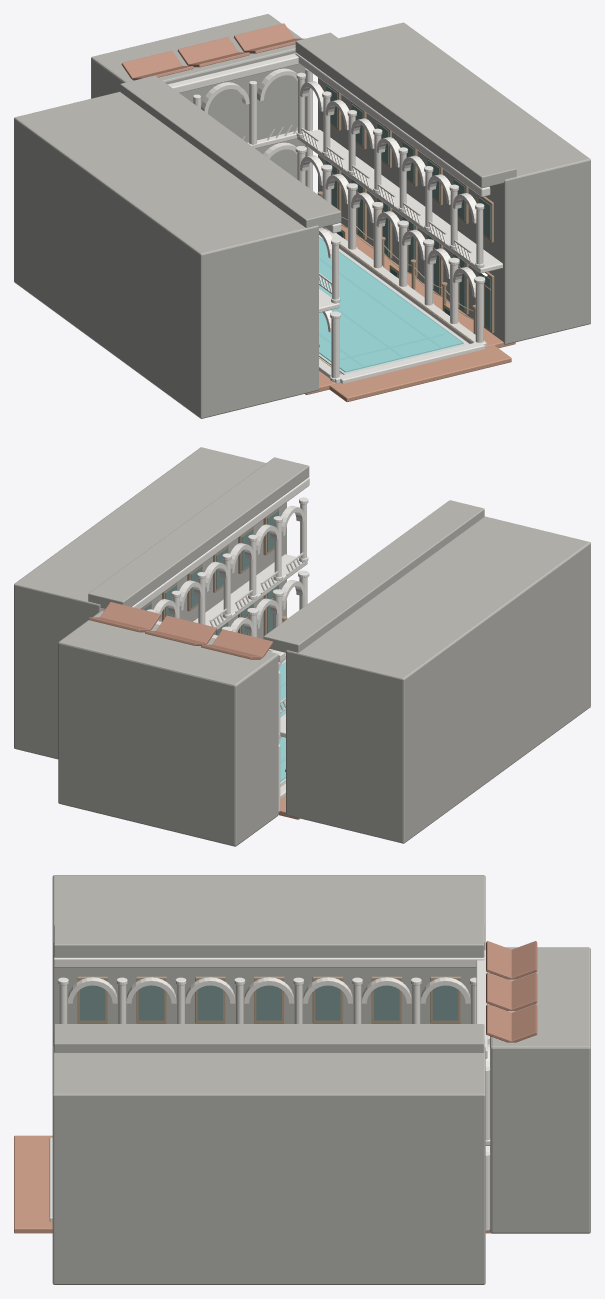
File: navy-club-pool.glb
3 views of the same model, one above another, from view 1: azimuth 30°, elevation 25°; view 2: azimuth 150°, elevation 25°; view 3: azimuth 270°, elevation 25° (orthographic). The views are drawn at different scales.
Visible parts, largest first — view 1: NavyClubPool; view 2: NavyClubPool; view 3: NavyClubPool.
Boxes of the visible parts, box(x1,y1,x2,y2) form: NavyClubPool: box(14, 14, 590, 418); NavyClubPool: box(14, 447, 590, 846); NavyClubPool: box(14, 875, 590, 1284).
Size of the model in its own units: 13.47 by 5.9 by 14.92.
